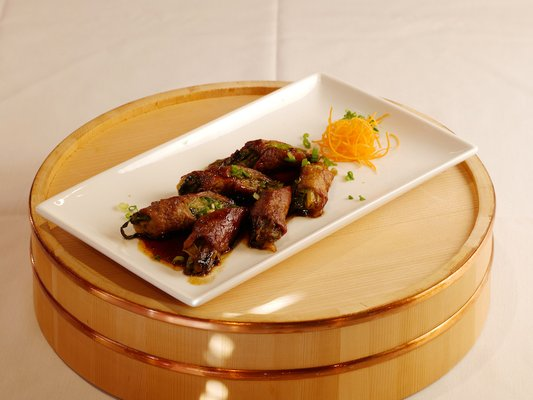curry: (22, 1, 533, 398)
